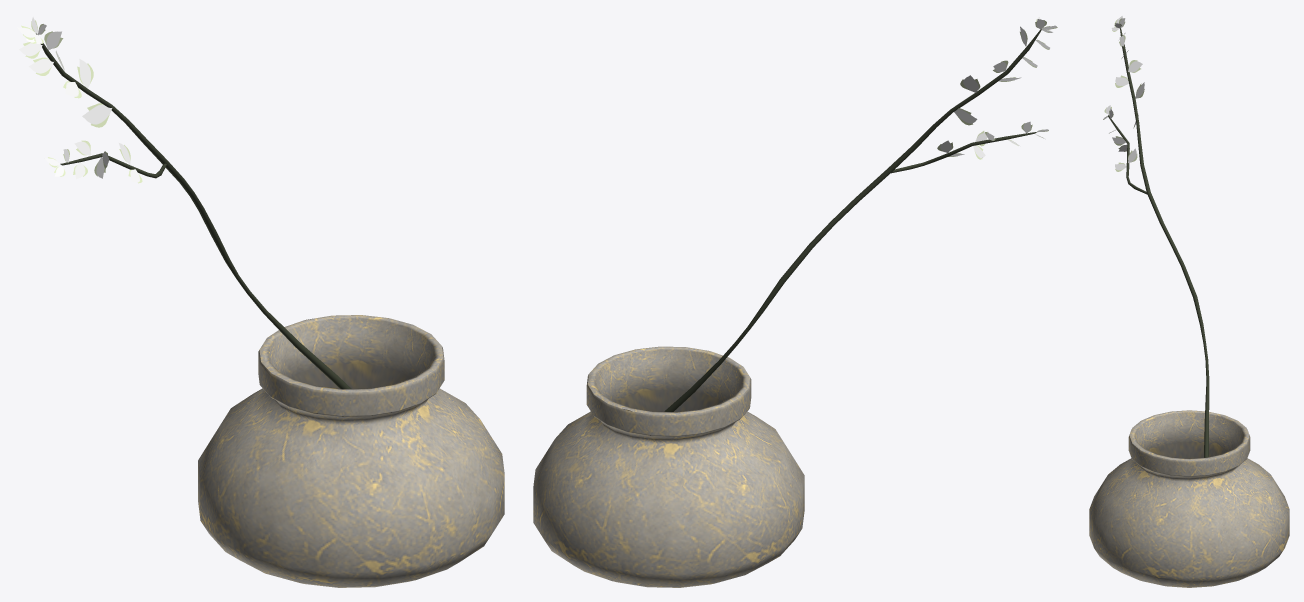
The model's file is smll_pot2.fbx.
3 renders of one model, left to right at view 1: azimuth 30°, elevation 25°; view 2: azimuth 150°, elevation 25°; view 3: azimuth 270°, elevation 25°, orthographic. The views are drawn at different scales.
Visible parts, largest first — view 1: pCylinder5; view 2: pCylinder5; view 3: pCylinder5.
Boxes of the visible parts, left/top/right/bottom form: pCylinder5: left=17, top=17, right=504, bottom=587; pCylinder5: left=533, top=17, right=1057, bottom=587; pCylinder5: left=1089, top=16, right=1289, bottom=587.
Size of the model in its own units: 32.31 by 38.69 by 16.48.
2 materials, 2 textured.
